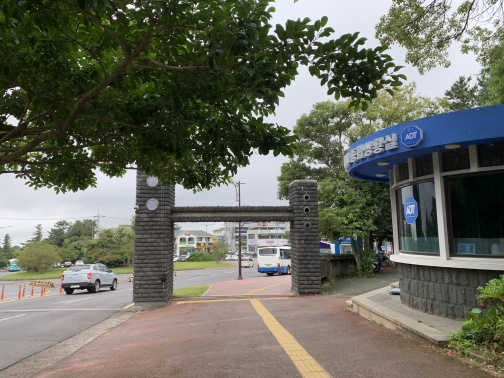Security Office: (339, 100, 501, 322)
